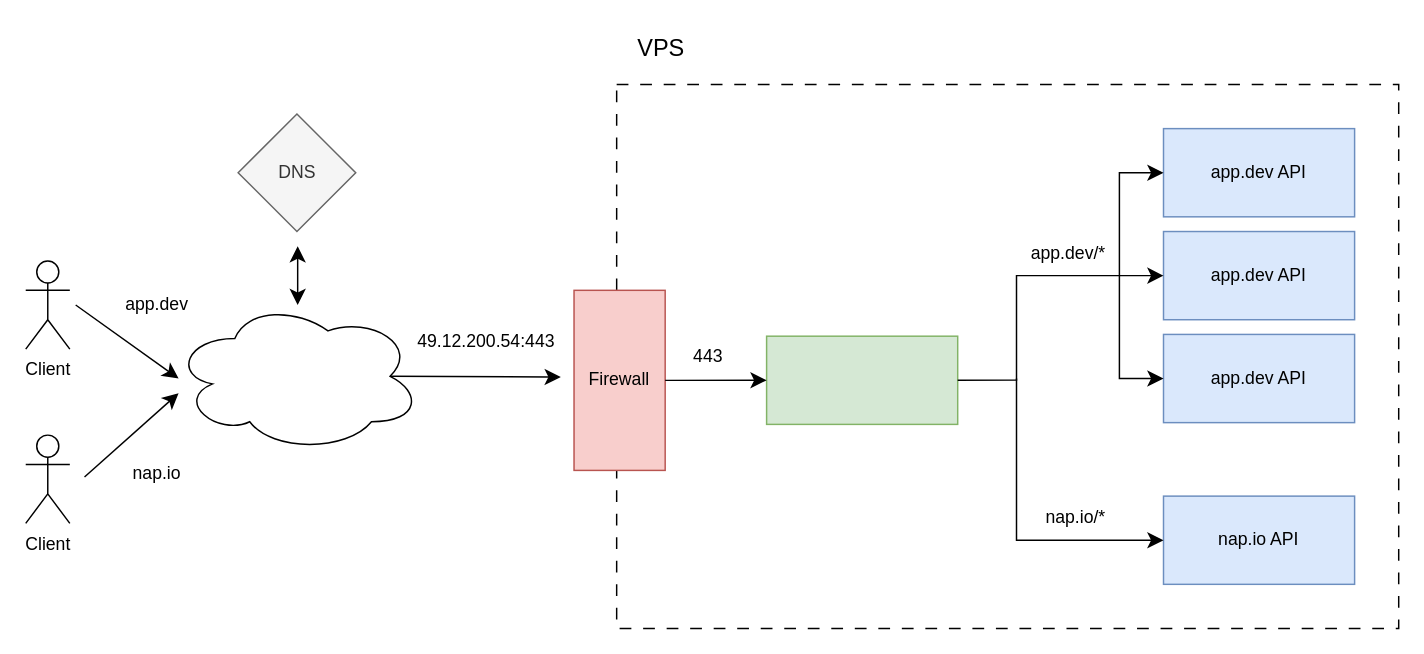
Some shapes in this 1424 by 654 pixel diagram are drawn without their labels. Each missing label, with the box of its shape:
Internet: (171, 299, 421, 452)
Reverse Proxy: (765, 335, 958, 424)
